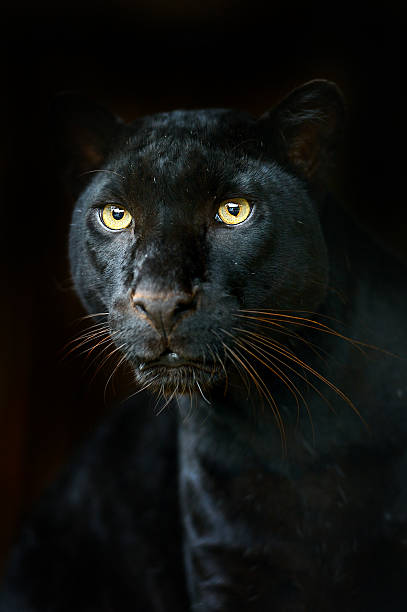panther: (43, 75, 389, 438)
